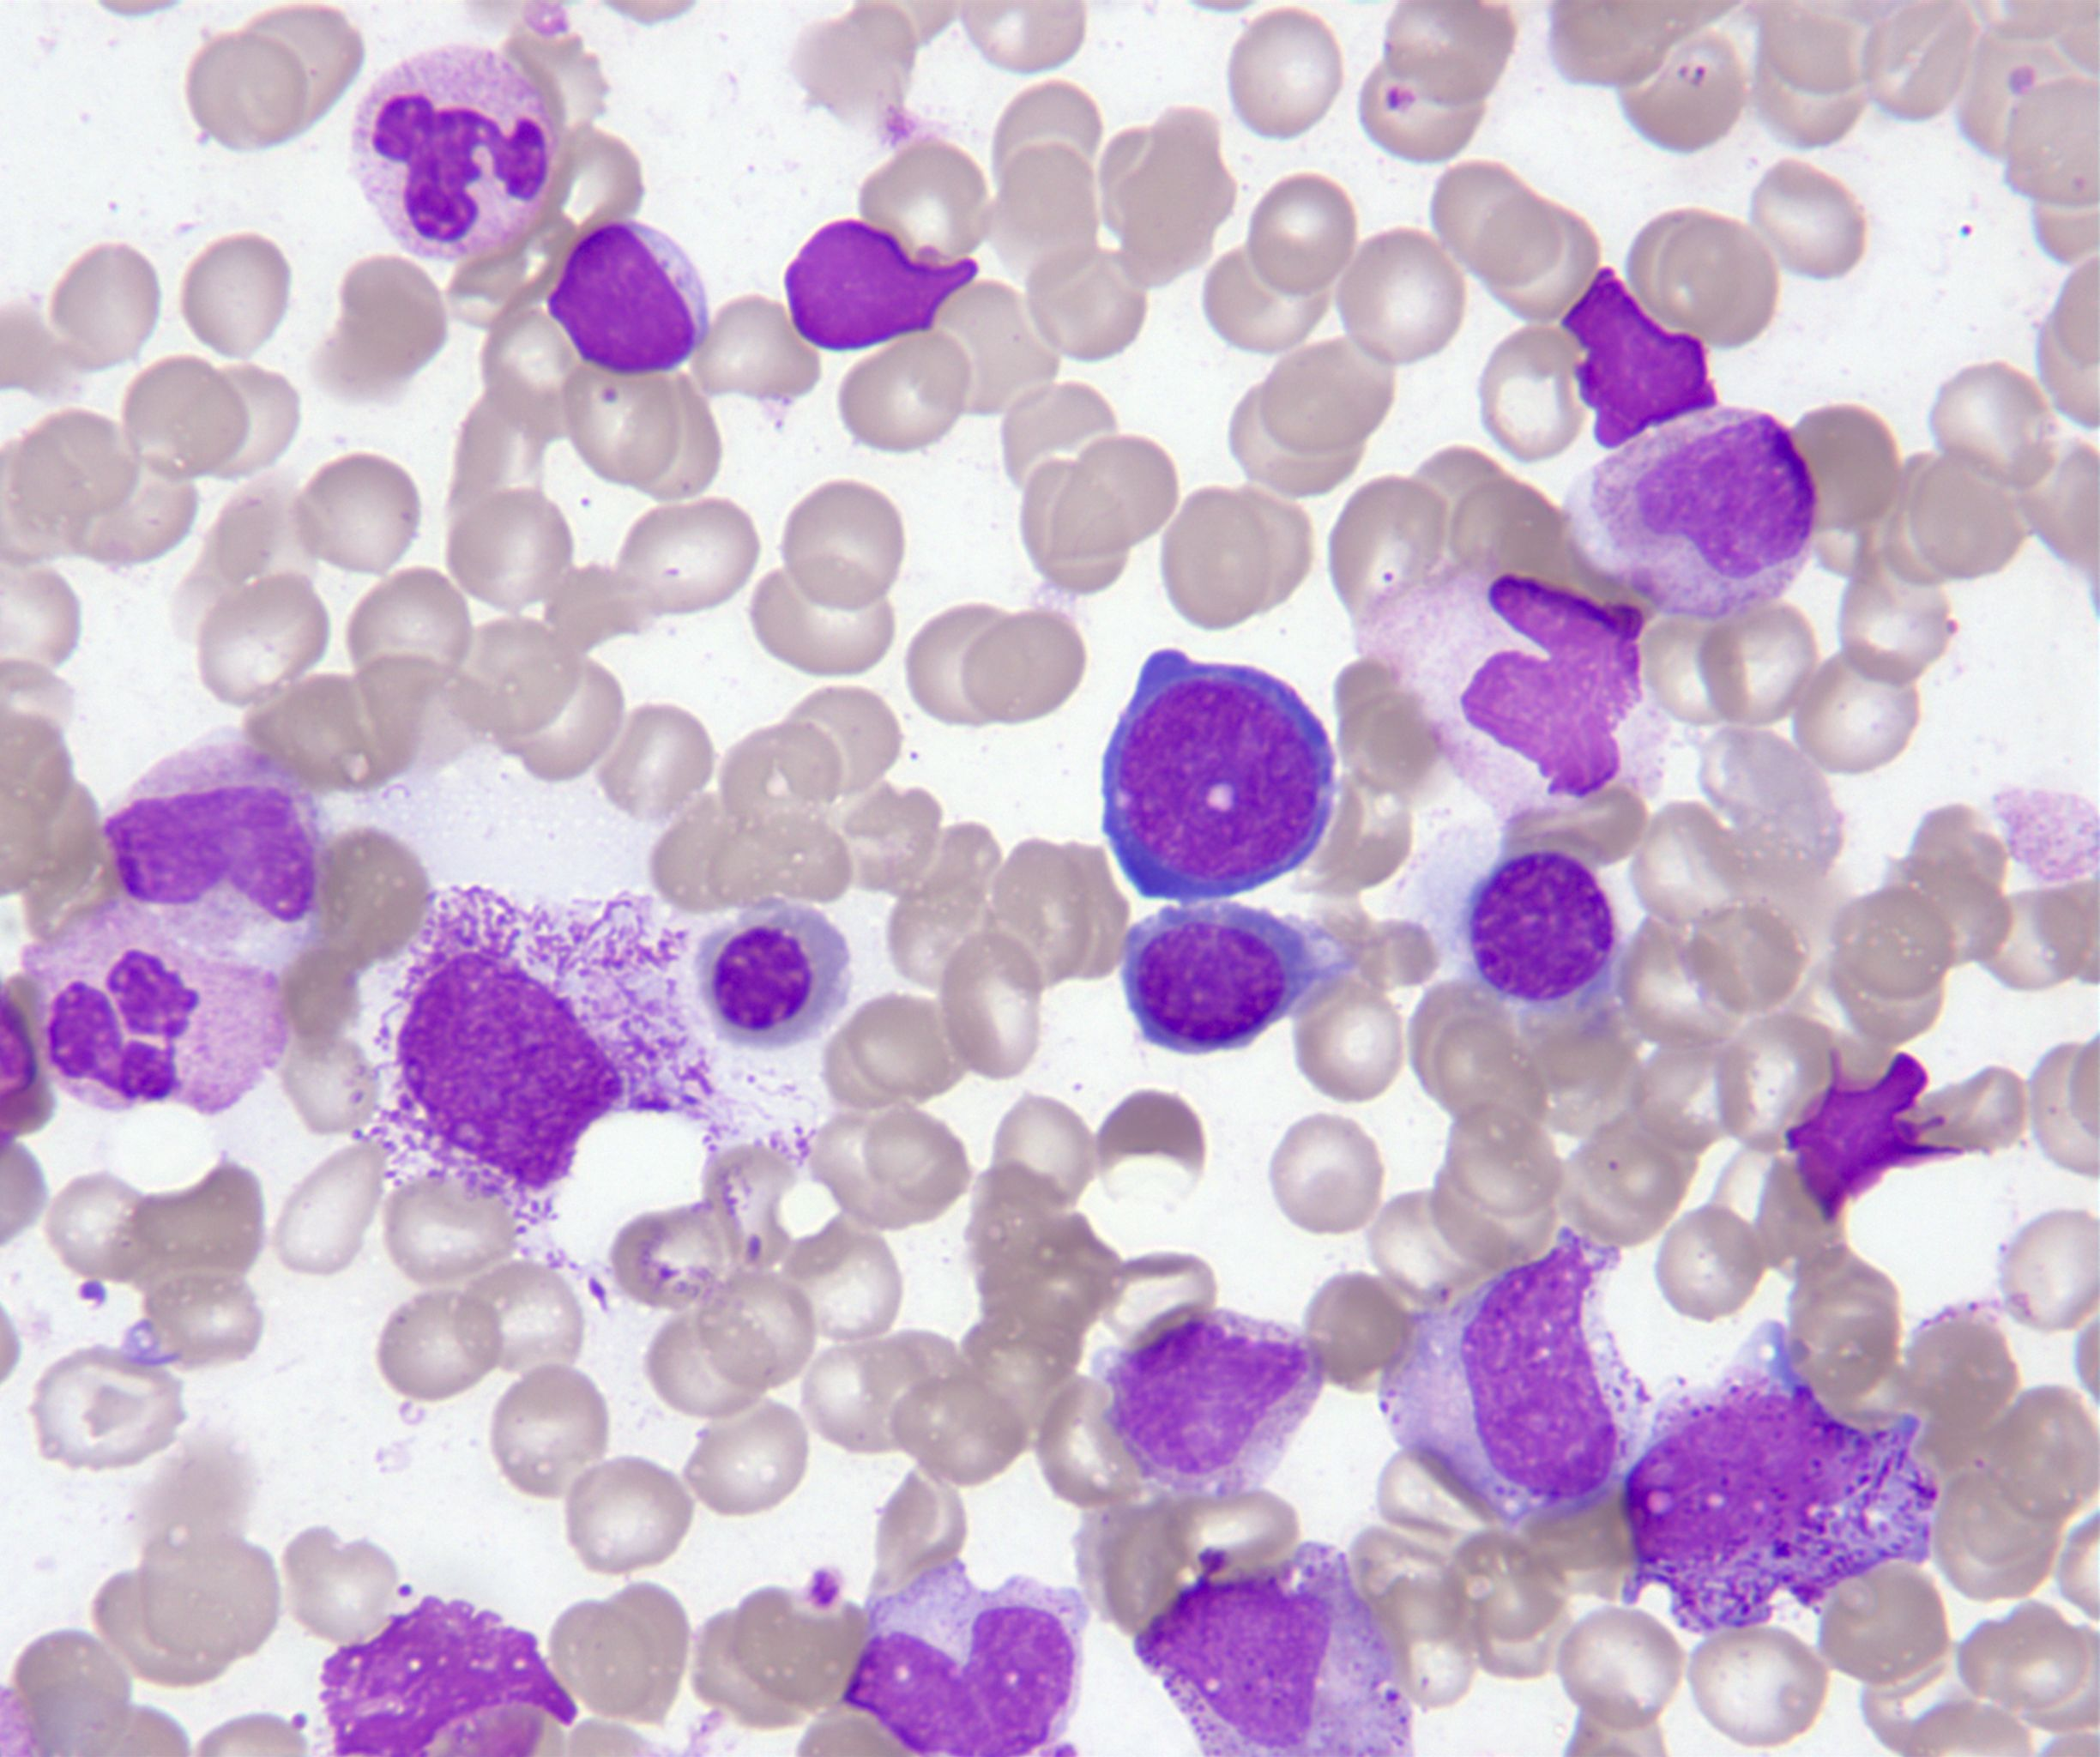22: (1092, 644, 1345, 907)
23: (1116, 900, 1320, 1064)
24: (1439, 846, 1638, 1021), (680, 892, 858, 1059)
3: (1610, 1357, 1947, 1642), (1371, 1223, 1640, 1532), (1125, 1535, 1425, 1757), (1558, 396, 1824, 632), (1090, 1298, 1334, 1502)
32: (546, 216, 719, 382)
4: (1341, 551, 1704, 825), (96, 735, 340, 970), (839, 1553, 1097, 1757)
6: (12, 897, 297, 1122), (345, 40, 579, 270)
x: (380, 940, 631, 1200), (771, 215, 989, 370)
